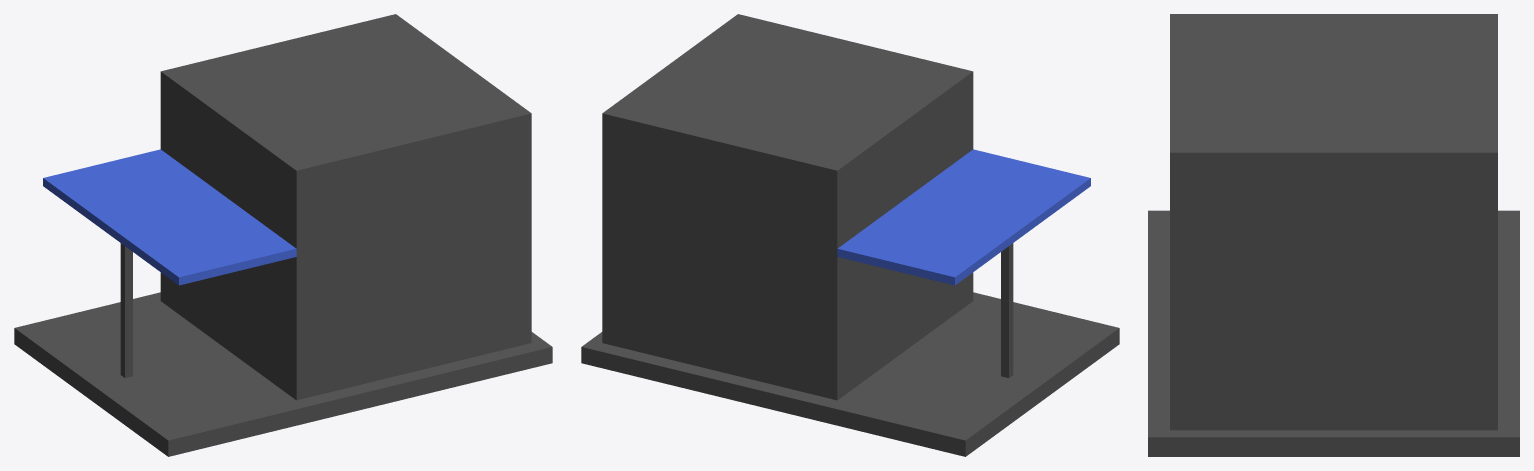
Rendered from house.gltf.
3 renders of one model, left to right at view 1: azimuth 30°, elevation 25°; view 2: azimuth 150°, elevation 25°; view 3: azimuth 270°, elevation 25°, orthographic. The views are drawn at different scales.
Parts seen in each view (by area): view 1: Cube, Cube.002, Cube.001, Cube.003; view 2: Cube, Cube.002, Cube.001, Cube.003; view 3: Cube, Cube.002.
Part boxes in pixels (box(x1,y1,x2,y2)): Cube: box(160, 14, 531, 400); Cube.002: box(14, 292, 552, 456); Cube.001: box(43, 149, 296, 285); Cube.003: box(120, 243, 132, 377); Cube: box(602, 14, 973, 400); Cube.002: box(581, 292, 1119, 456); Cube.001: box(837, 149, 1090, 285); Cube.003: box(1001, 243, 1013, 377); Cube: box(1170, 14, 1497, 430); Cube.002: box(1148, 210, 1519, 456).
Size of the model in its own units: 4.9 by 3 by 3.4.
